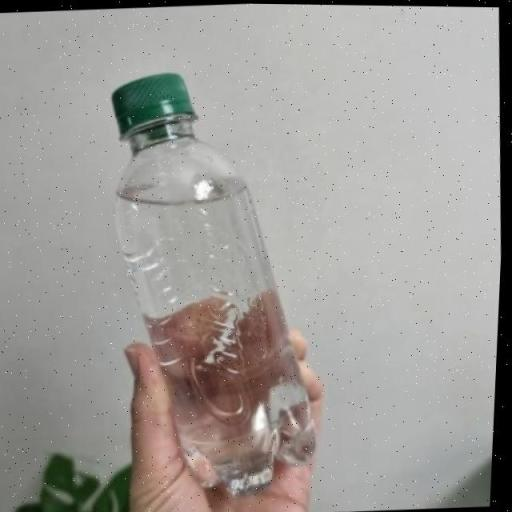plastic: (112, 73, 319, 500)
